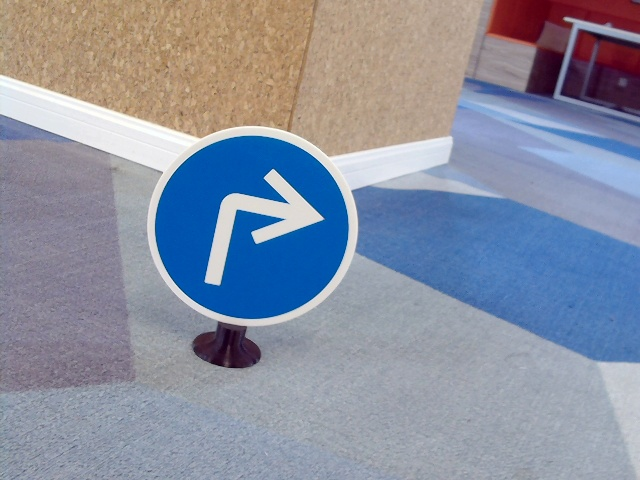turn_right: (200, 171, 320, 295)
